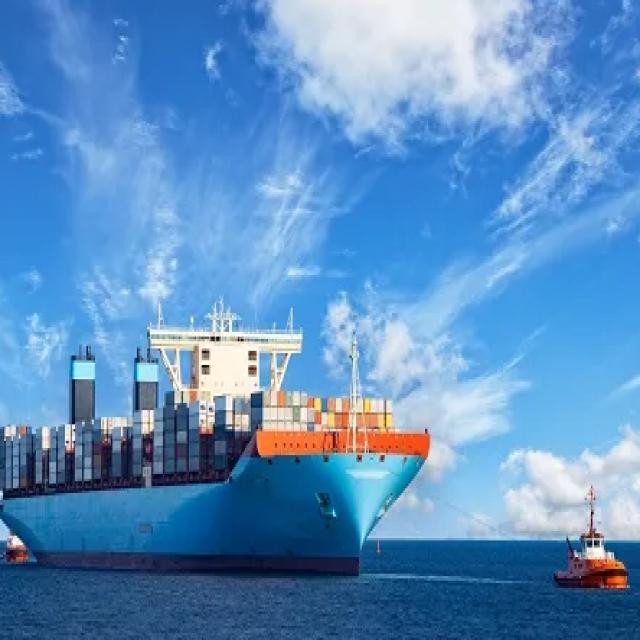cargoship: (0, 239, 427, 607), (551, 500, 640, 598)
